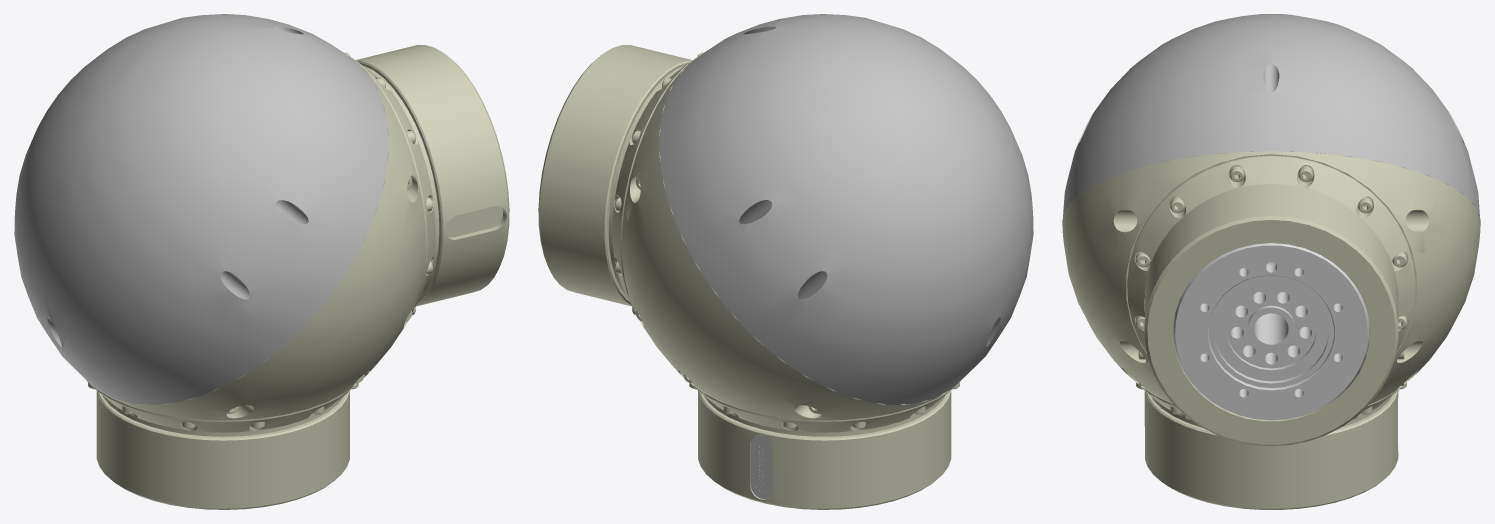
File: LWA46_Link3.dae
3 renders of one model, left to right at view 1: azimuth 30°, elevation 25°; view 2: azimuth 150°, elevation 25°; view 3: azimuth 270°, elevation 25°, orthographic.
Visible parts, largest first — view 1: Link3; view 2: Link3; view 3: Link3.
Boxes of the visible parts, x1,y1,x2,y2 form: Link3: (14,14,509,509); Link3: (538,14,1033,509); Link3: (1062,14,1480,509).
Size of the model in its own units: 0.1625 by 0.1449 by 0.1625.
